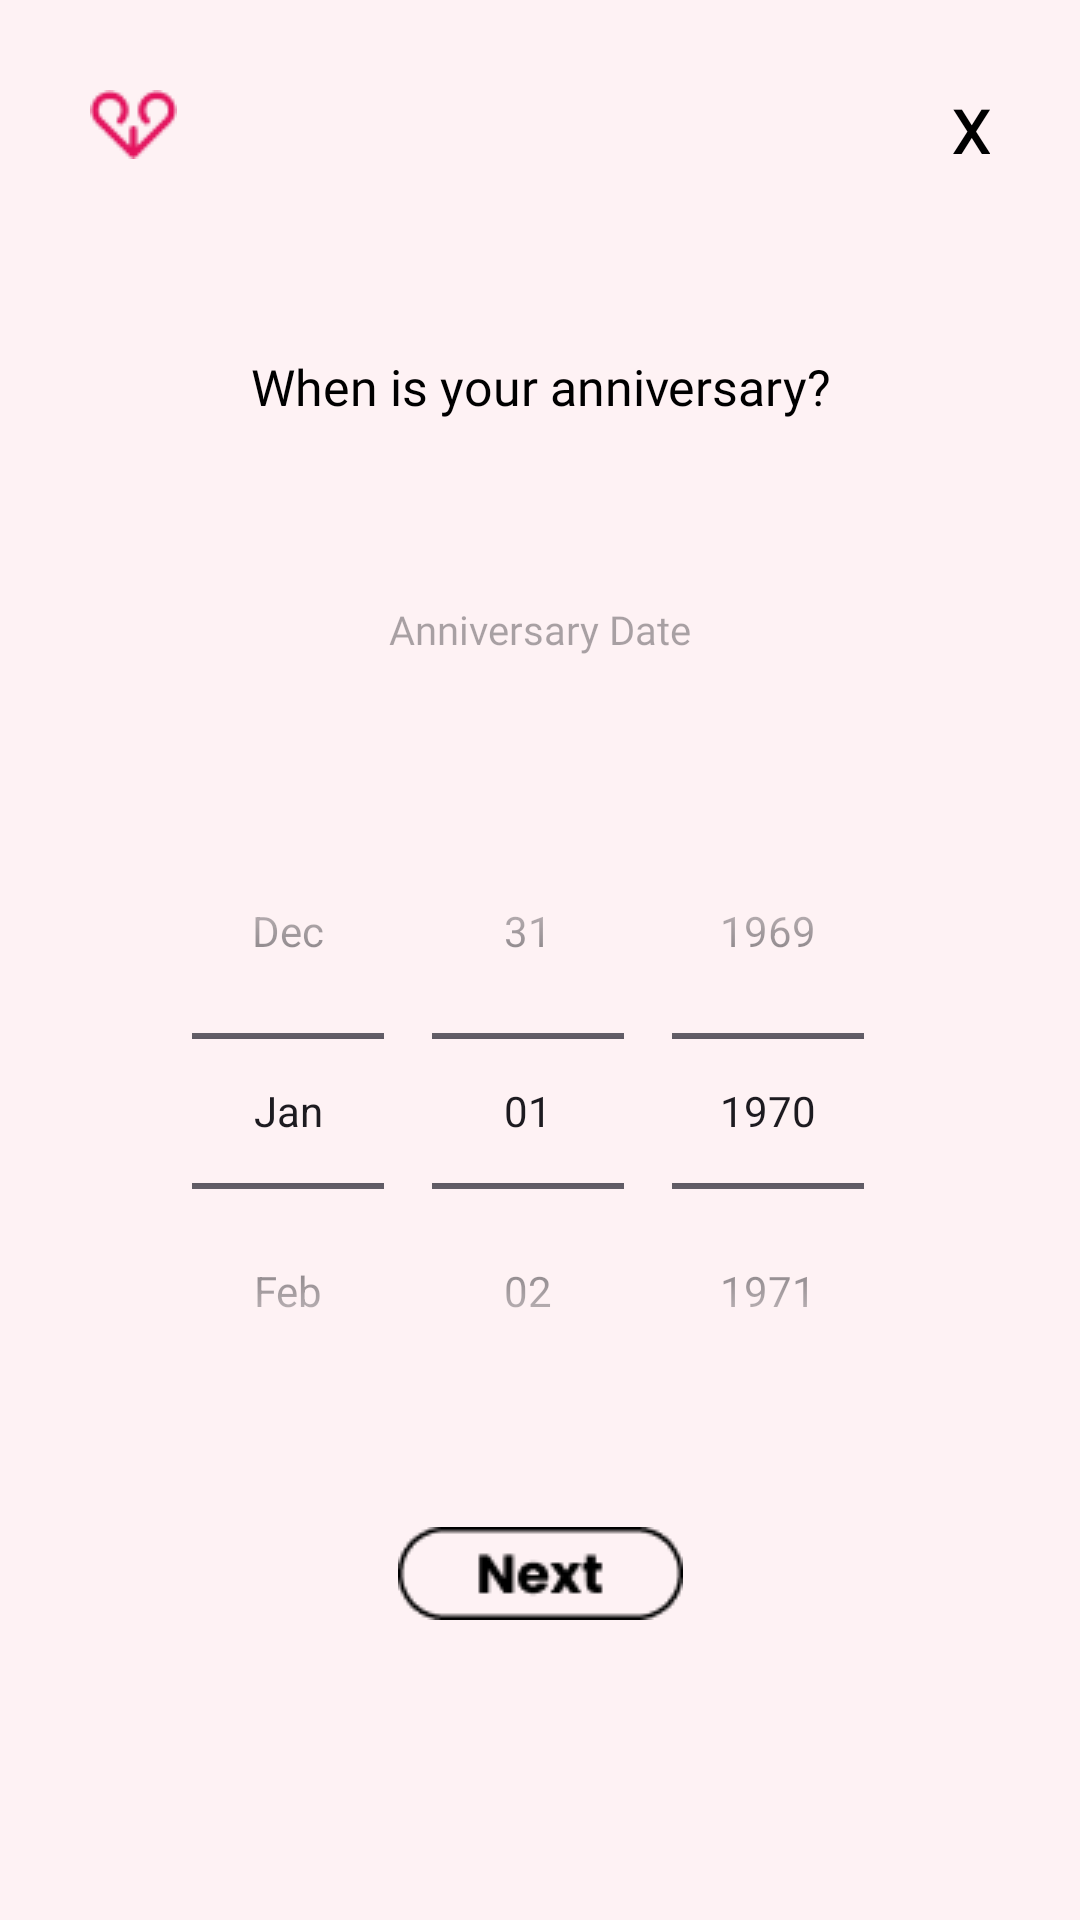

Point at icon controls on the screen. Image size 1080w x 1920h, points as point (x, y).
mini heart: point (133, 124)
